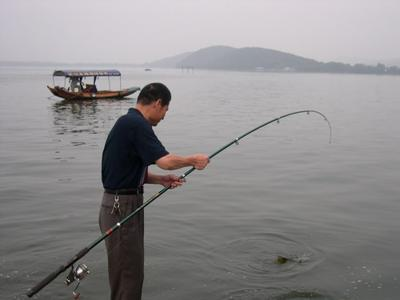person: (98, 82, 212, 300)
